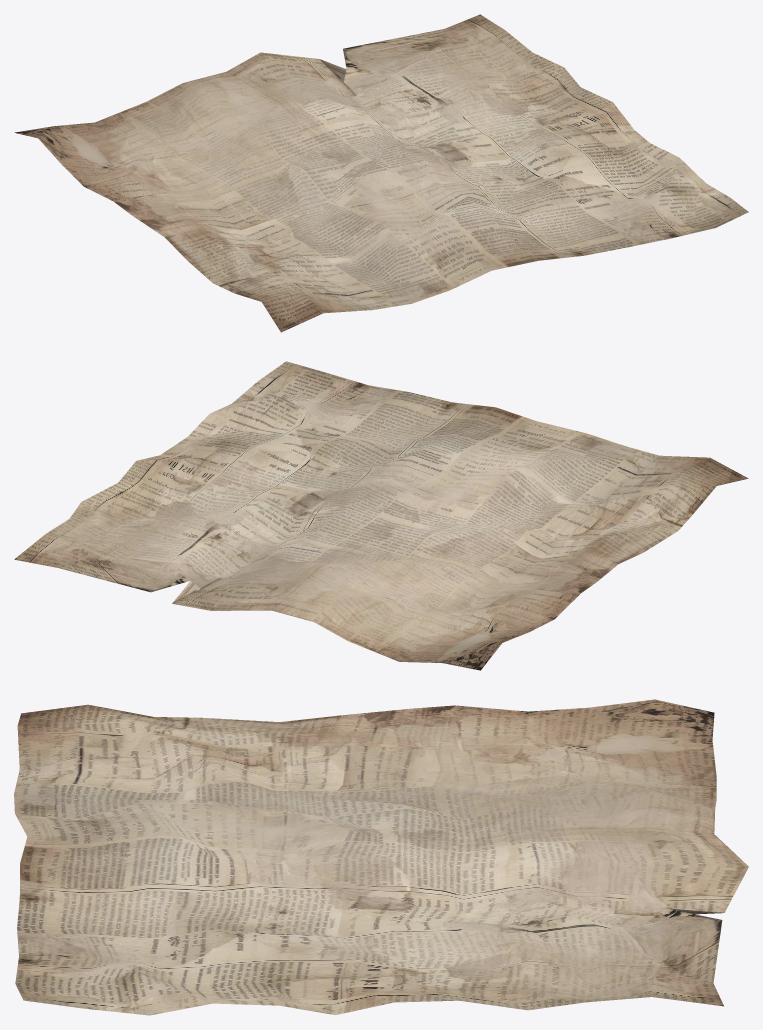
File: vintage_newspaper.glb
The picture shows the model from 3 angles, top to bottom: view 1: azimuth 30°, elevation 25°; view 2: azimuth 150°, elevation 25°; view 3: azimuth 270°, elevation 25°; orthographic projection. The views are drawn at different scales.
Parts seen in each view (by area): view 1: Object_2; view 2: Object_2; view 3: Object_2.
Boxes of the visible parts, x1,y1,x2,y2 form: Object_2: (15, 14, 748, 332); Object_2: (14, 361, 748, 670); Object_2: (14, 699, 748, 1015).
Size of the model in its own units: 1021 by 64.13 by 1052.
Materials: 1 (1 with a texture image).
